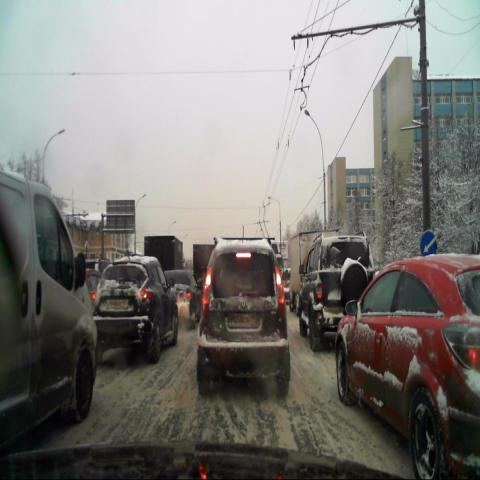4_2_2: (420, 229, 436, 261)
